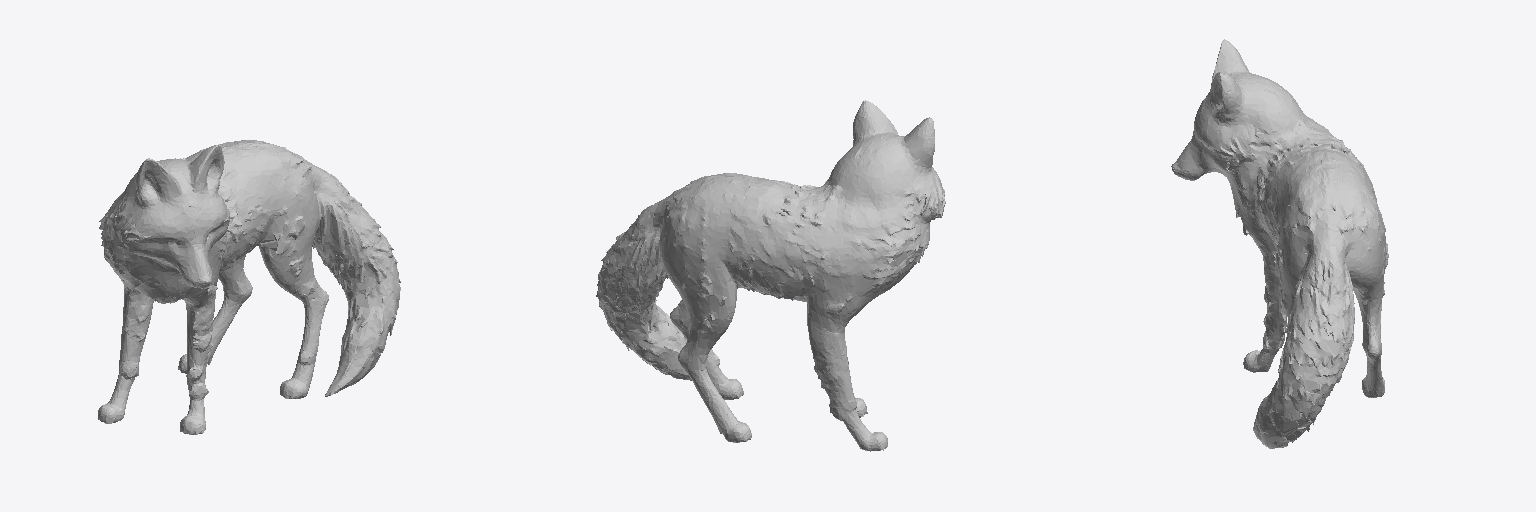
Rendered from test_quad_output.obj.
3 views of the same model, side by side, from view 1: azimuth 30°, elevation 25°; view 2: azimuth 150°, elevation 25°; view 3: azimuth 270°, elevation 25° (orthographic).
Bounding box in the file's own units: 1.98 × 1.85 × 1.21.